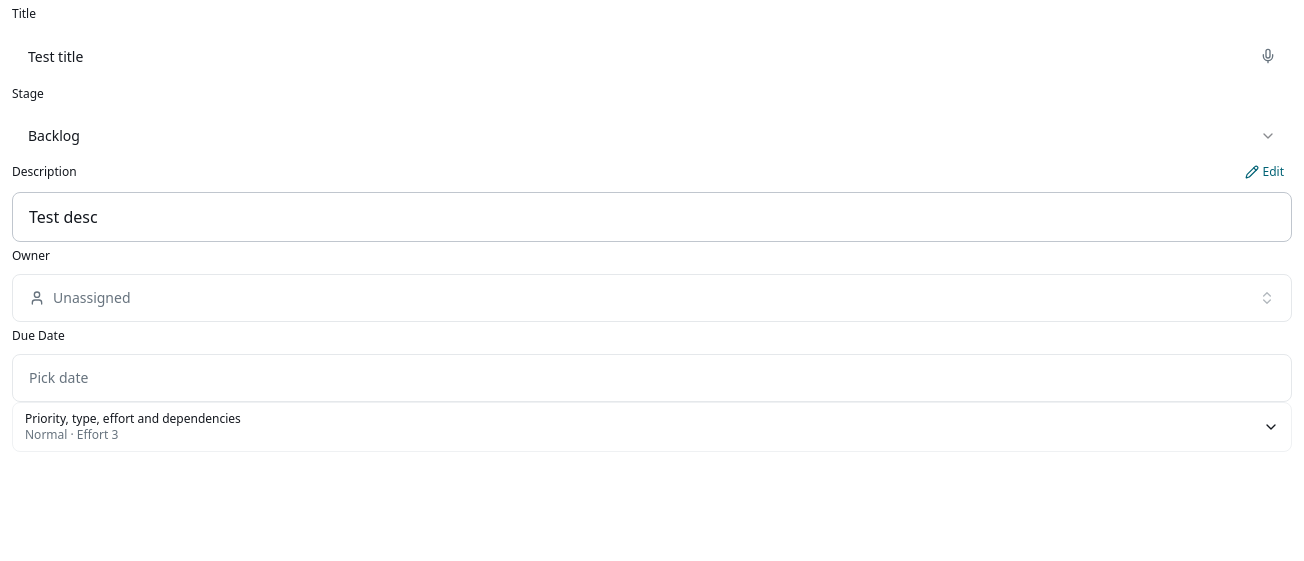
Test: EditTaskFormFields › switches to the rich text editor when Edit is tapped
The image size is (1304, 561).
Step 1. Click the button with test id "button-toggle-description-edit" → (1264, 172), box [1236,160,1292,184]
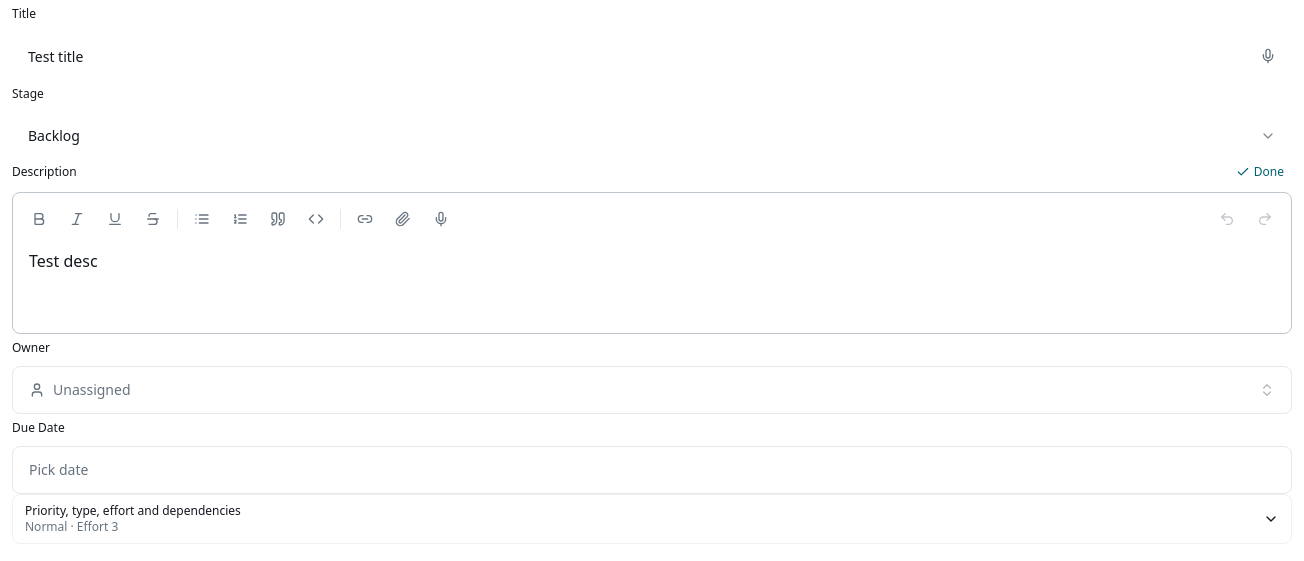
Expected: the element with test id "input-edit-description" reads "Test desc", [29,250,98,272]
Step 2. Click the button with test id "button-toggle-description-edit" → (1260, 172), box [1228,160,1292,184]
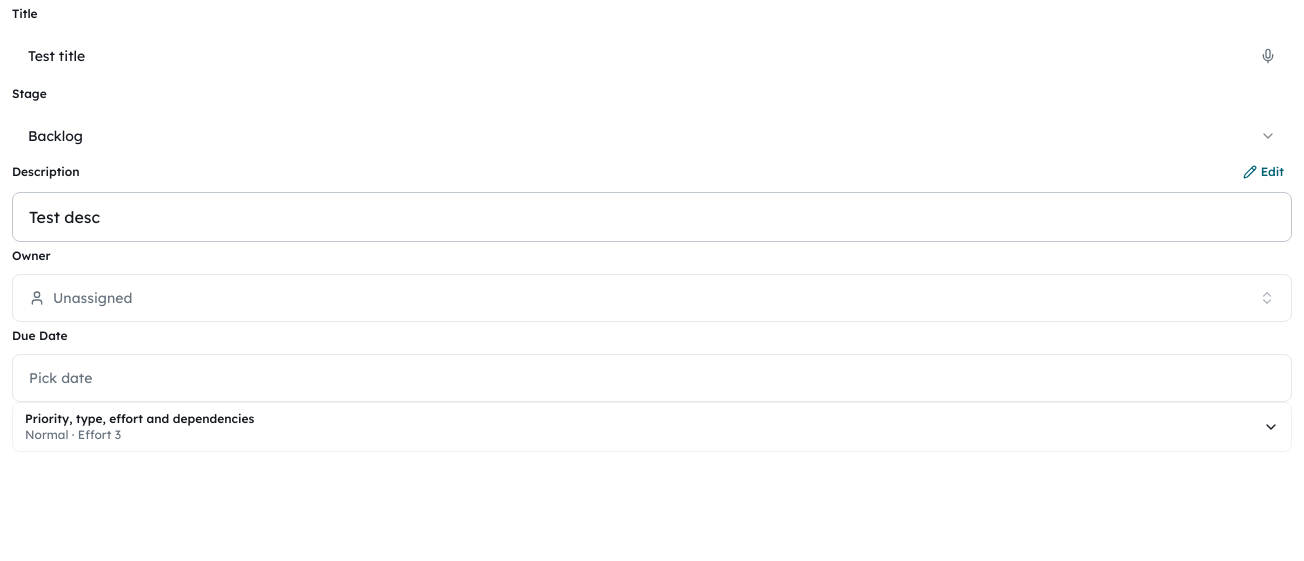
Expected: the element with test id "text-edit-description" reads "Test desc", [29,207,100,227]
Expected: the element with test id "input-edit-description" is gone
